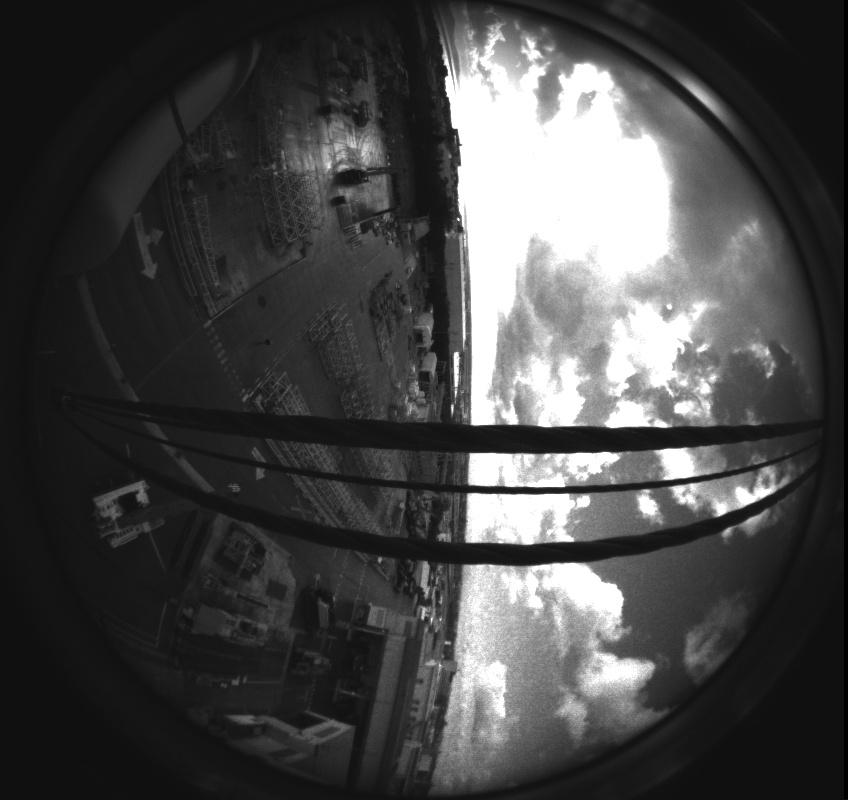rope: (2, 378, 846, 578)
